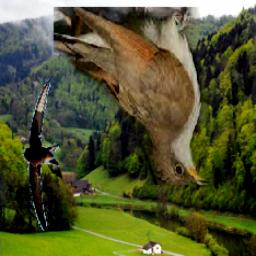Cuckoo: (54, 8, 209, 186)
Swallow: (22, 79, 59, 232)
